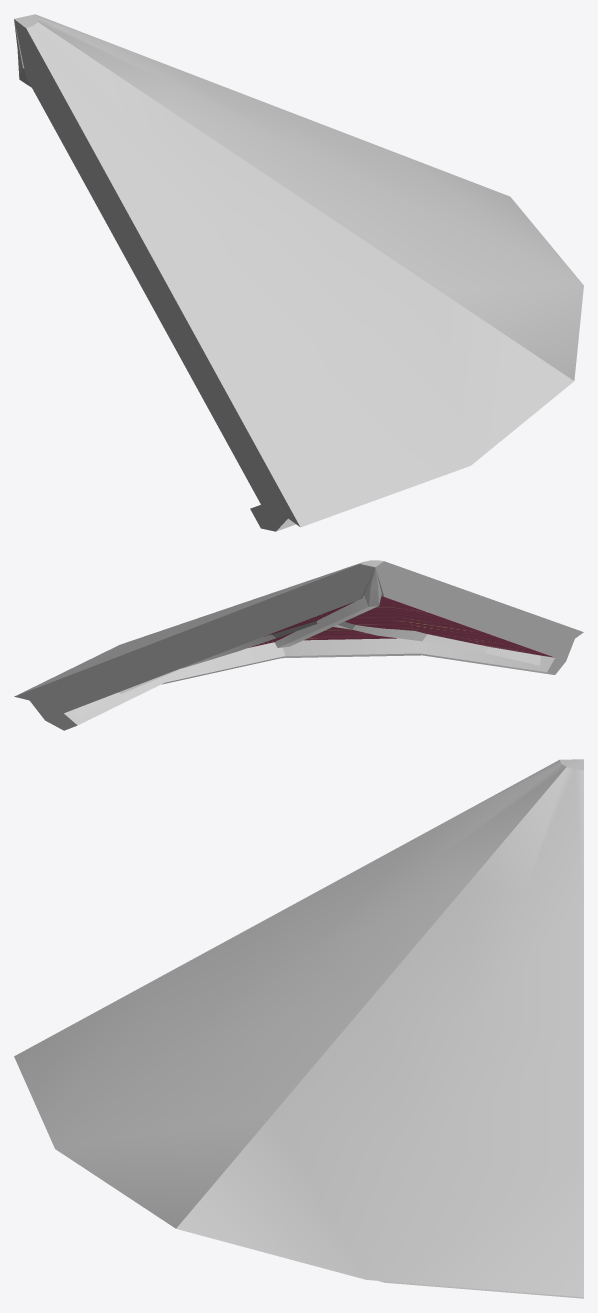
File: SM_Bld_Roof_M_Straight_Corner_Out_02.fbx
3 renders of one model, top to bottom at view 1: azimuth 30°, elevation 25°; view 2: azimuth 150°, elevation 25°; view 3: azimuth 270°, elevation 25°, orthographic. The views are drawn at different scales.
Parts seen in each view (by area): view 1: SM_Bld_Roof_M_Straight_Corner_Out_02; view 2: SM_Bld_Roof_M_Straight_Corner_Out_02; view 3: SM_Bld_Roof_M_Straight_Corner_Out_02.
Boxes of the visible parts, bbox=[...] form: SM_Bld_Roof_M_Straight_Corner_Out_02: bbox=[14, 14, 583, 531]; SM_Bld_Roof_M_Straight_Corner_Out_02: bbox=[14, 560, 583, 730]; SM_Bld_Roof_M_Straight_Corner_Out_02: bbox=[14, 759, 583, 1298].
Bounding box in the file's own units: 261 × 165 × 261.
